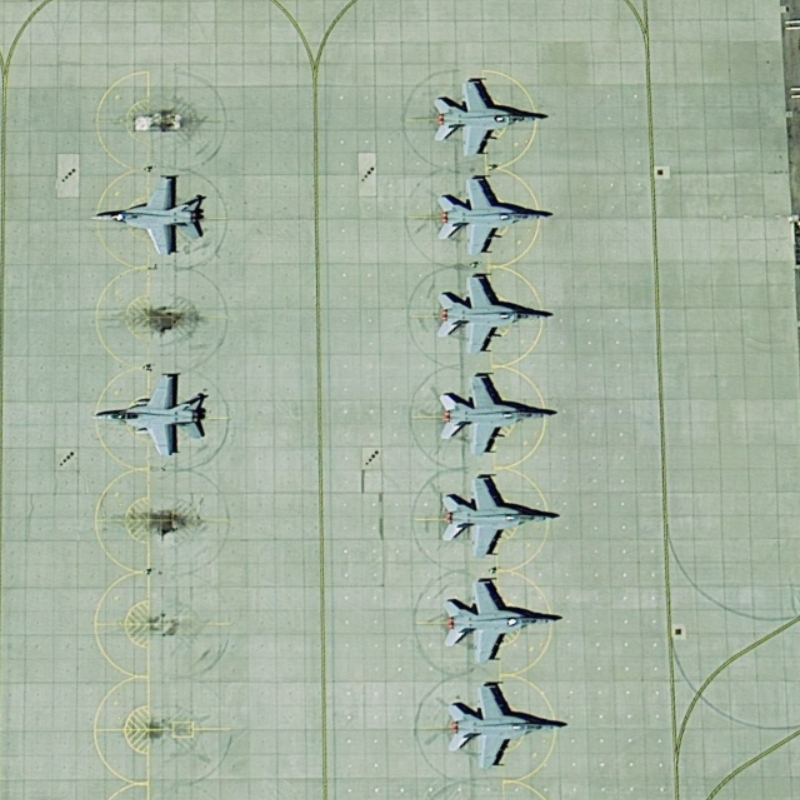A16: (439, 574, 561, 667), (443, 682, 570, 771), (92, 370, 211, 462), (438, 473, 562, 561), (435, 371, 556, 460), (432, 272, 554, 359), (91, 172, 208, 261), (435, 72, 546, 165), (433, 174, 556, 257)
